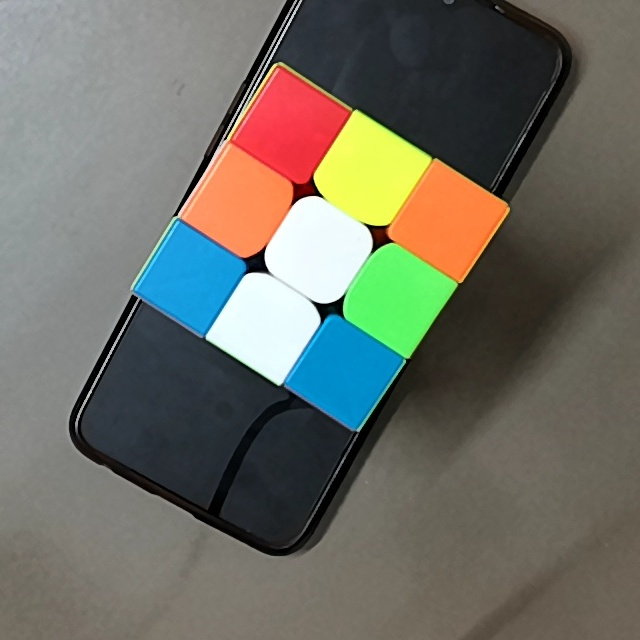tile: (208, 171, 273, 235), (419, 188, 484, 248), (259, 98, 327, 155), (233, 296, 300, 353), (317, 341, 378, 402), (342, 139, 402, 201), (369, 270, 429, 330), (289, 219, 351, 277), (158, 251, 221, 307)
